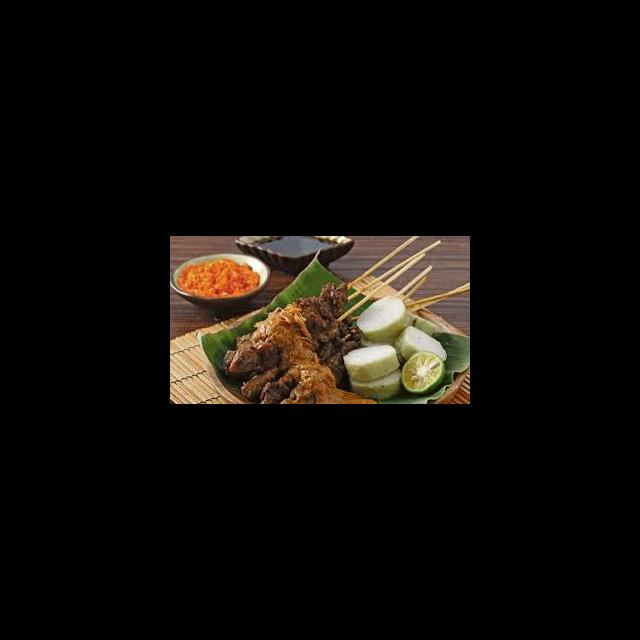food_waste: (273, 311, 431, 392)
